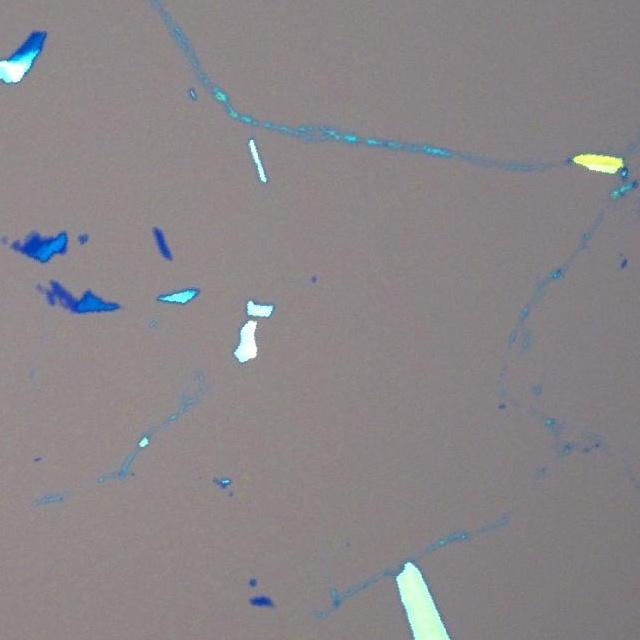monolayer-eWW4: (24, 231, 34, 241), (0, 233, 8, 245), (42, 233, 47, 240)
